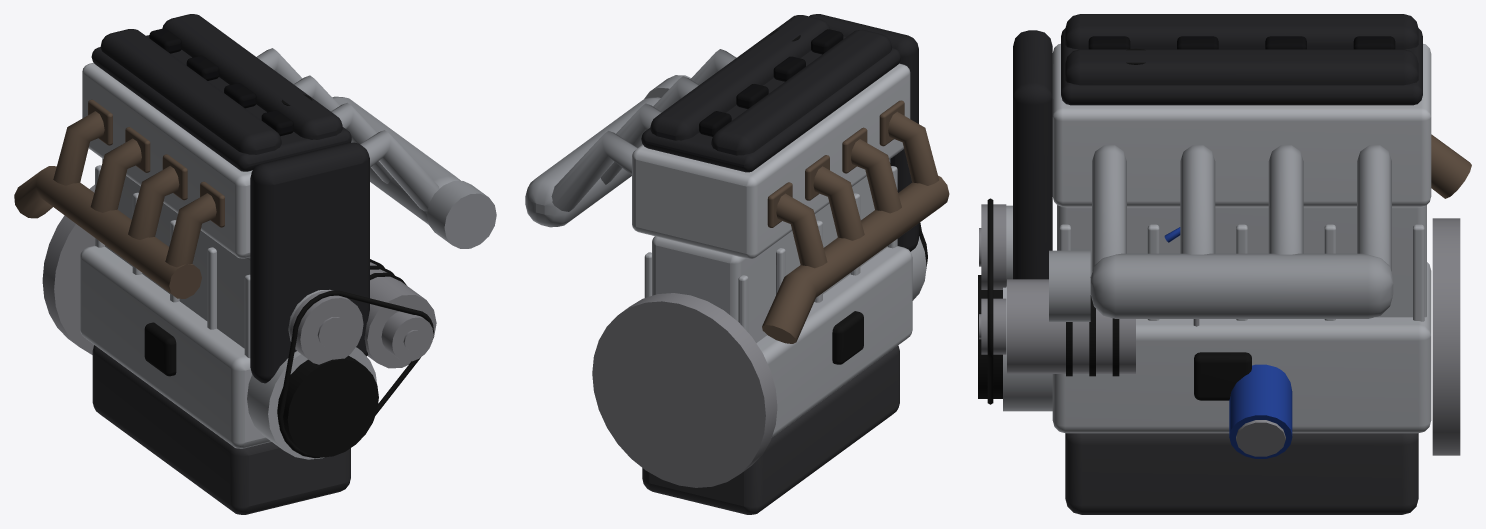
3 views of the same model, side by side, from view 1: azimuth 30°, elevation 25°; view 2: azimuth 150°, elevation 25°; view 3: azimuth 270°, elevation 25° (orthographic). The views are drawn at different scales.
Visible parts, largest first — view 1: i4_2l_na; view 2: i4_2l_na; view 3: i4_2l_na.
Boxes of the visible parts, bbox=[...] form: i4_2l_na: bbox=[14, 14, 496, 514]; i4_2l_na: bbox=[525, 14, 949, 514]; i4_2l_na: bbox=[978, 14, 1471, 514].
Size of the model in its own units: 0.508 by 0.5944 by 0.5944.
